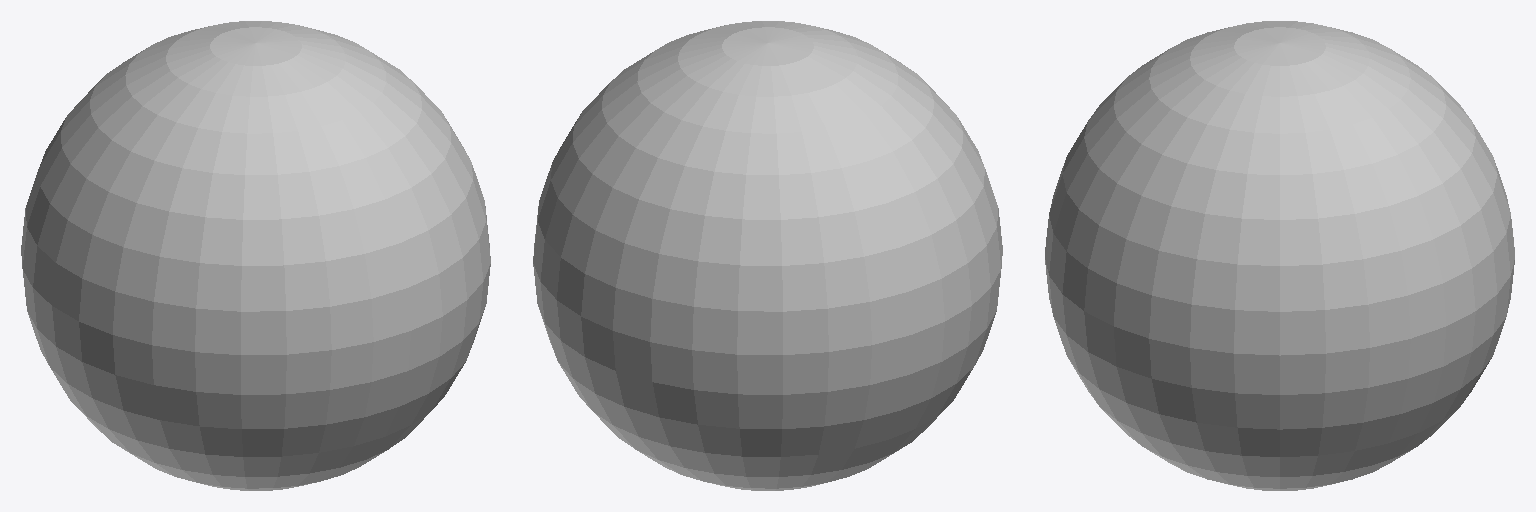
The model's file is planet.obj.
The picture shows the model from 3 angles: view 1: azimuth 30°, elevation 25°; view 2: azimuth 150°, elevation 25°; view 3: azimuth 270°, elevation 25°; orthographic projection.
Parts seen in each view (by area): view 1: Sphere; view 2: Sphere; view 3: Sphere.
Boxes of the visible parts, x1=… form: Sphere: x1=21, y1=21, x2=490, y2=490; Sphere: x1=533, y1=21, x2=1002, y2=490; Sphere: x1=1045, y1=21, x2=1514, y2=490.
Bounding box in the file's own units: 2 × 1.99 × 2.